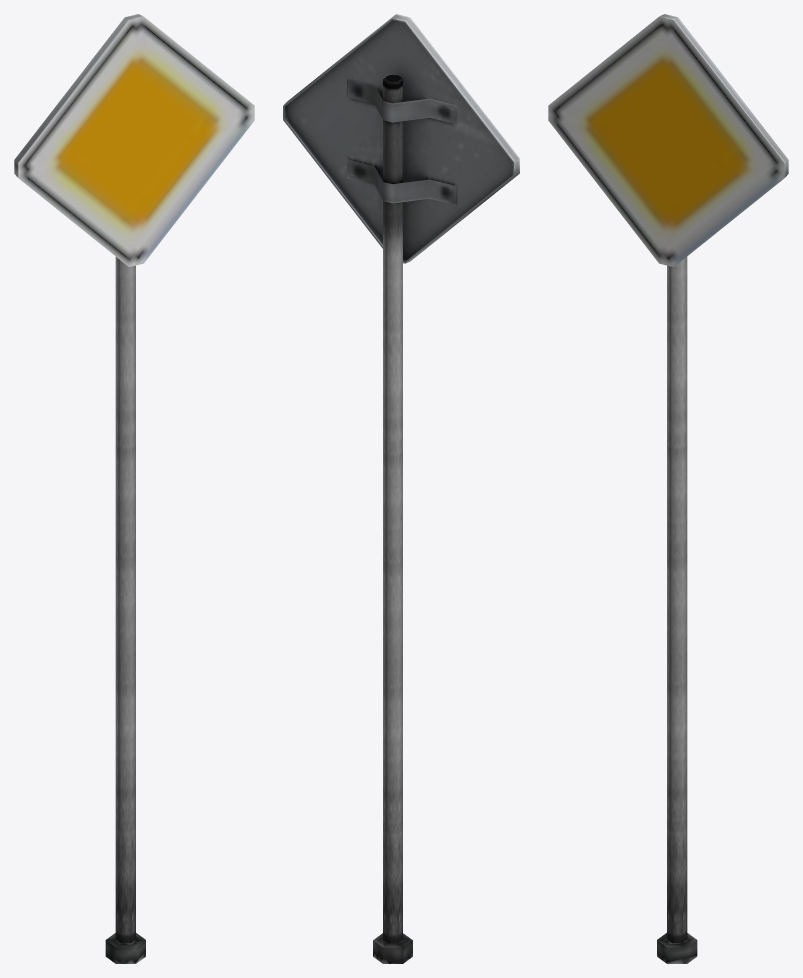
Rendered from sign_main.glb.
3 renders of one model, left to right at view 1: azimuth 30°, elevation 25°; view 2: azimuth 150°, elevation 25°; view 3: azimuth 330°, elevation 25°, orthographic.
Parts seen in each view (by area): view 1: sign_main; view 2: sign_main; view 3: sign_main.
Part boxes in pixels (left/top/right/bottom): sign_main: left=14, top=14, right=254, bottom=963; sign_main: left=283, top=14, right=519, bottom=963; sign_main: left=548, top=14, right=788, bottom=963.
Bounding box in the file's own units: 0.679 × 2.6 × 0.103.
Materials: 1 (1 with a texture image).
